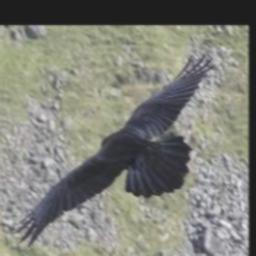Crow: (12, 54, 215, 248)
